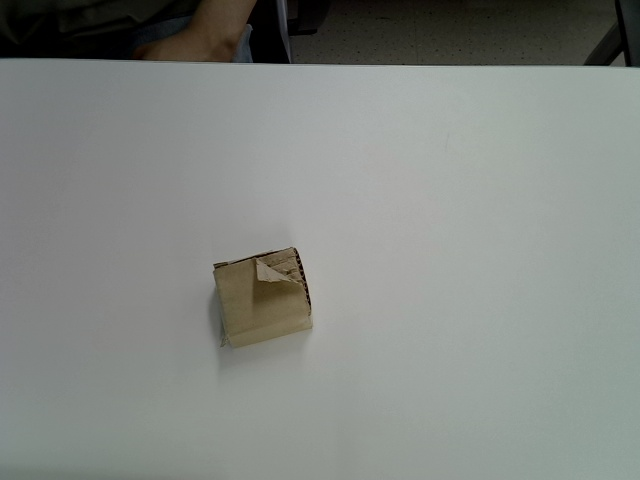defect: (212, 245, 313, 349)
